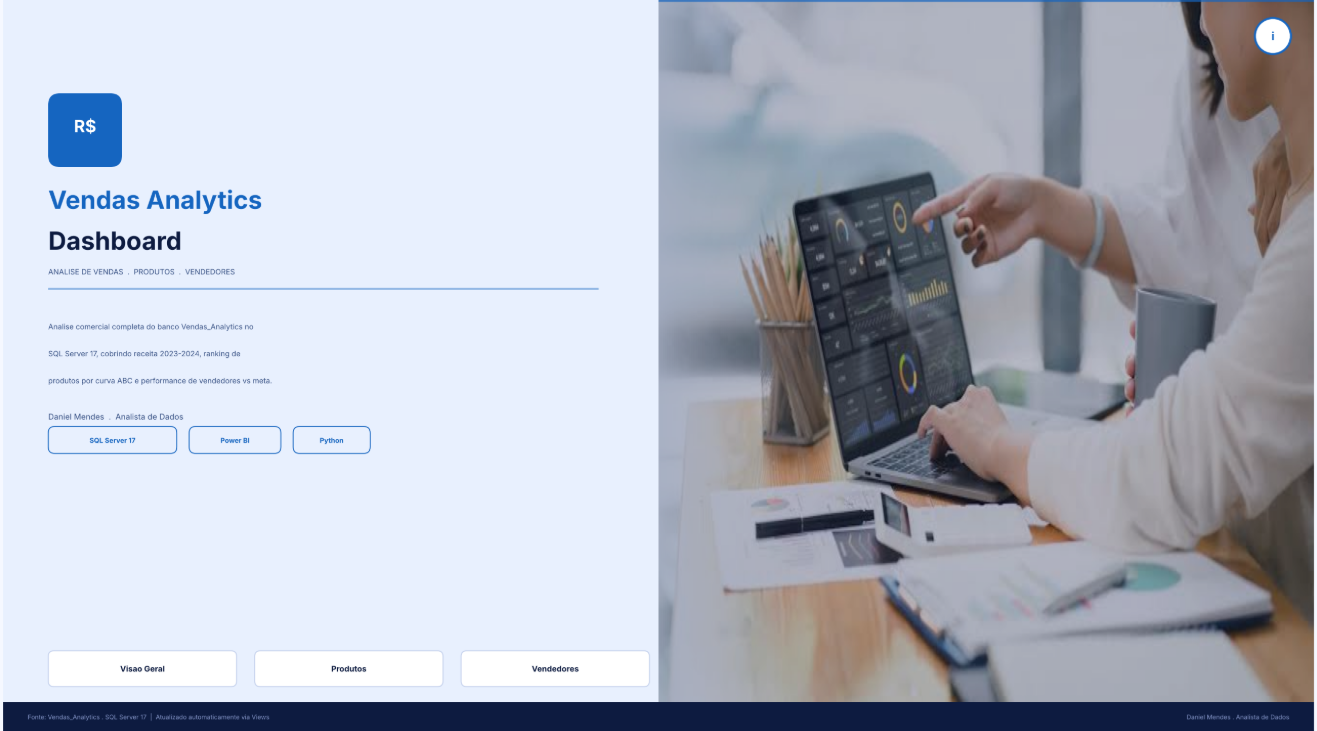

The dashboard page shown, as its layout file describes it:
{"tool":"powerbi","page":{"name":"Início","canvas":[1920,1080],"ordinal":0},"visuals":[{"type":"actionButton","box":[81.4,954.7,261.8,46.2],"z":0},{"type":"actionButton","box":[369.6,954.7,275,46.2],"z":1000},{"type":"actionButton","box":[666.5,956.9,275,46.2],"z":2000},{"type":"shape","box":[1819.3,35.2,57.2,55],"z":3000}]}

Visuals, with their boxes in screenshot pixels (x1, y1, x2, y2), scaled from the page's 1920x1080 canvas onto the 1317x731 screenshot:
actionButton: pyautogui.locateOnScreen(56, 646, 235, 677)
actionButton: pyautogui.locateOnScreen(254, 646, 442, 677)
actionButton: pyautogui.locateOnScreen(457, 648, 646, 679)
shape: pyautogui.locateOnScreen(1248, 24, 1287, 61)
